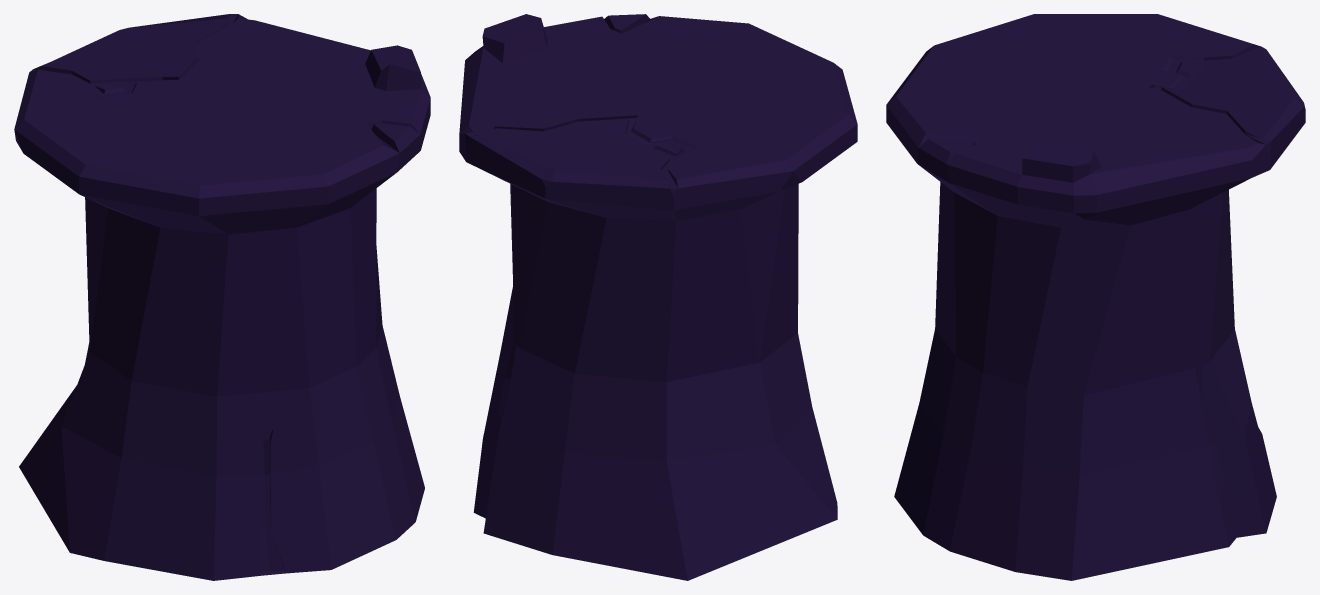
Rendered from groundElevated_001_grp.fbx.
3 views of the same model, side by side, from view 1: azimuth 30°, elevation 25°; view 2: azimuth 150°, elevation 25°; view 3: azimuth 270°, elevation 25° (orthographic).
Visible parts, largest first — view 1: groundElevated_001_grp; view 2: groundElevated_001_grp; view 3: groundElevated_001_grp.
Part boxes in pixels (bbox=[...]): groundElevated_001_grp: bbox=[14, 14, 430, 580]; groundElevated_001_grp: bbox=[459, 14, 857, 580]; groundElevated_001_grp: bbox=[886, 14, 1305, 580].
Size of the model in its own units: 180 by 200 by 180.
